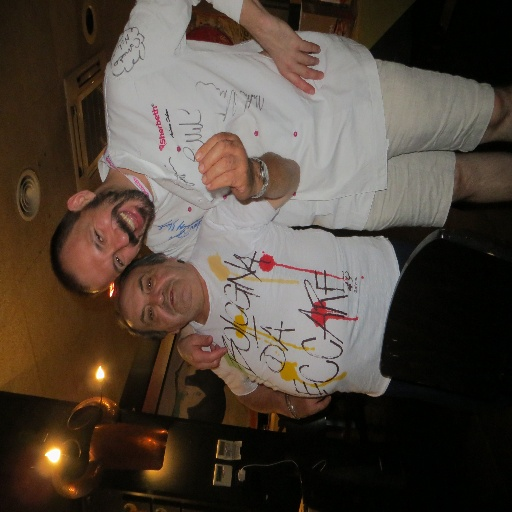hand: (193, 129, 256, 203), (267, 21, 324, 95), (175, 331, 226, 369), (286, 395, 331, 423)
